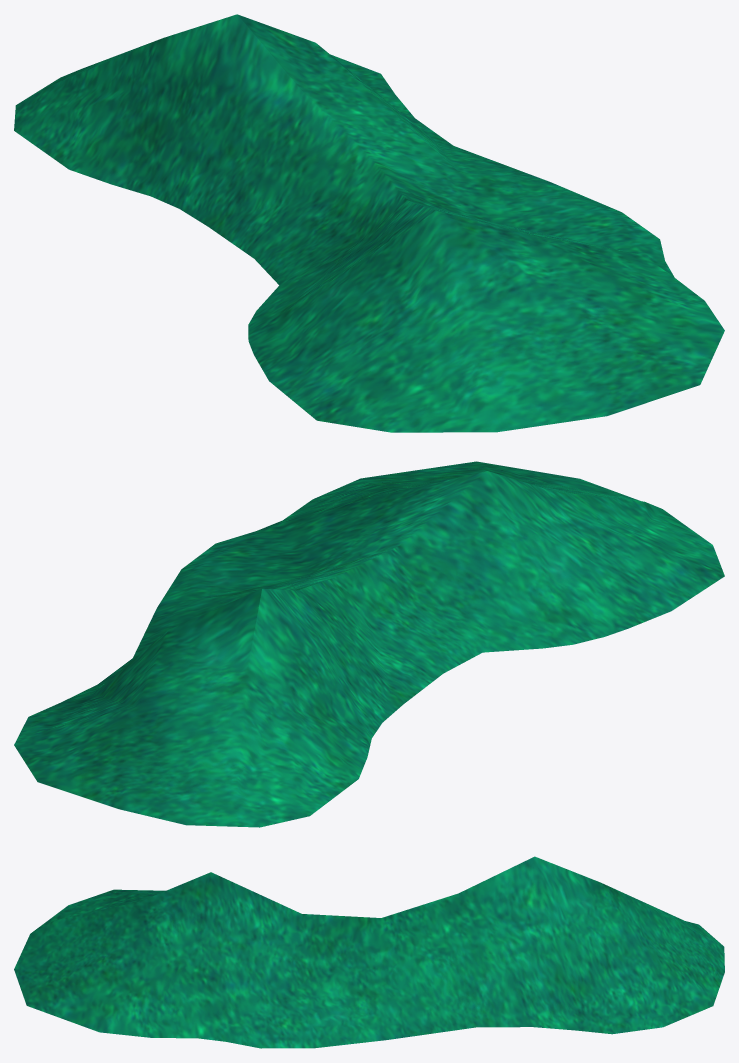
Rendered from Blob_GRASS.dae.
3 views of the same model, one above another, from view 1: azimuth 30°, elevation 25°; view 2: azimuth 150°, elevation 25°; view 3: azimuth 270°, elevation 25° (orthographic). The views are drawn at different scales.
Parts seen in each view (by area): view 1: mesh0, mesh0_flipped; view 2: mesh0, mesh0_flipped; view 3: mesh0, mesh0_flipped.
Boxes of the visible parts, bbox=[...] form: mesh0: bbox=[14, 14, 724, 432]; mesh0_flipped: bbox=[15, 16, 723, 432]; mesh0: bbox=[14, 461, 724, 827]; mesh0_flipped: bbox=[14, 462, 724, 827]; mesh0: bbox=[14, 856, 724, 1048]; mesh0_flipped: bbox=[15, 857, 724, 1047].
Bounding box in the file's own units: 5.16 × 1.63 × 9.77.
